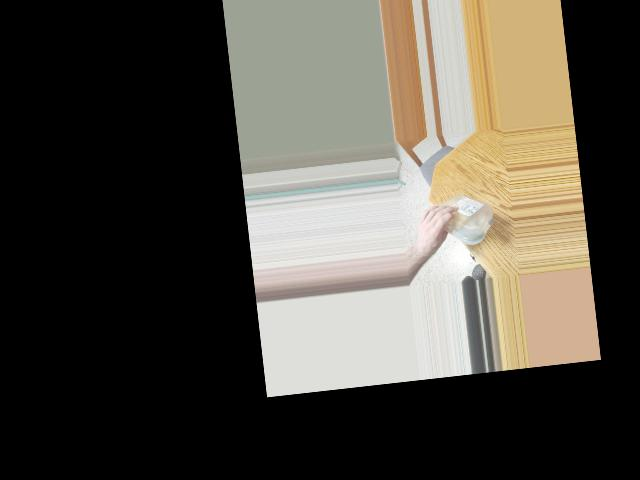cheese: (427, 188, 498, 247)
